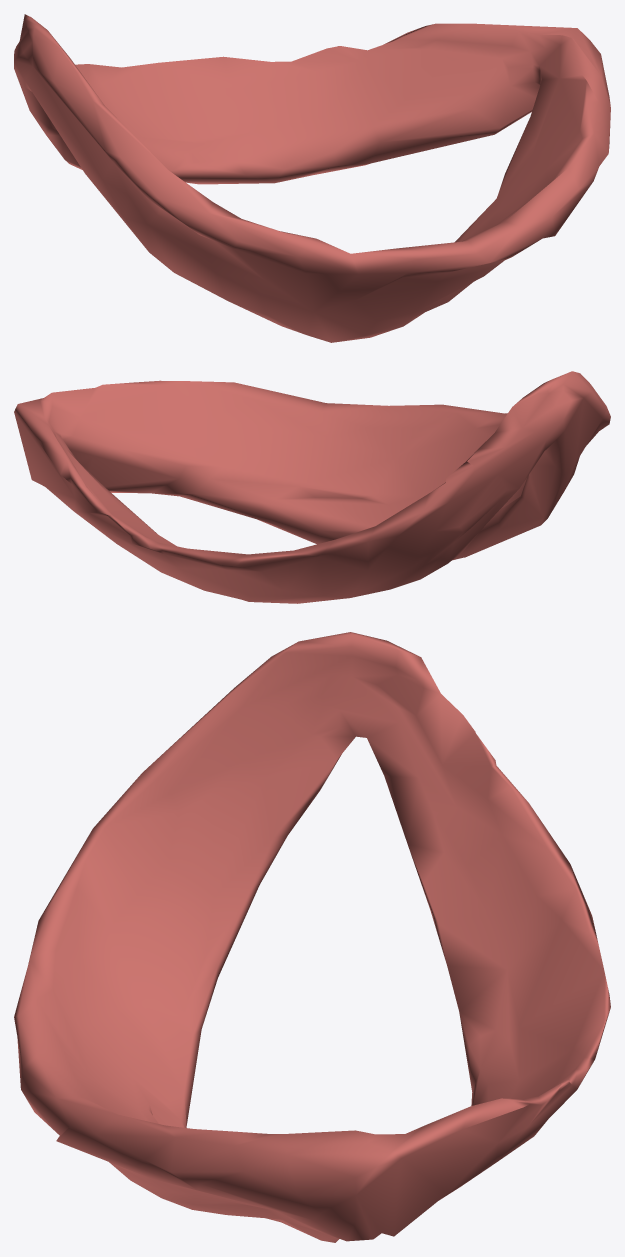
3 renders of one model, top to bottom at view 1: azimuth 30°, elevation 25°; view 2: azimuth 150°, elevation 25°; view 3: azimuth 270°, elevation 25°, orthographic. The views are drawn at different scales.
Visible parts, largest first — view 1: 右侧眼轮匝肌睑部; view 2: 右侧眼轮匝肌睑部; view 3: 右侧眼轮匝肌睑部.
Part boxes in pixels (x1,y1,x2,y2): 右侧眼轮匝肌睑部: (14,14,610,342); 右侧眼轮匝肌睑部: (14,371,610,603); 右侧眼轮匝肌睑部: (14,632,610,1242).
Size of the model in its own units: 0.0495 by 0.0254 by 0.0356.
